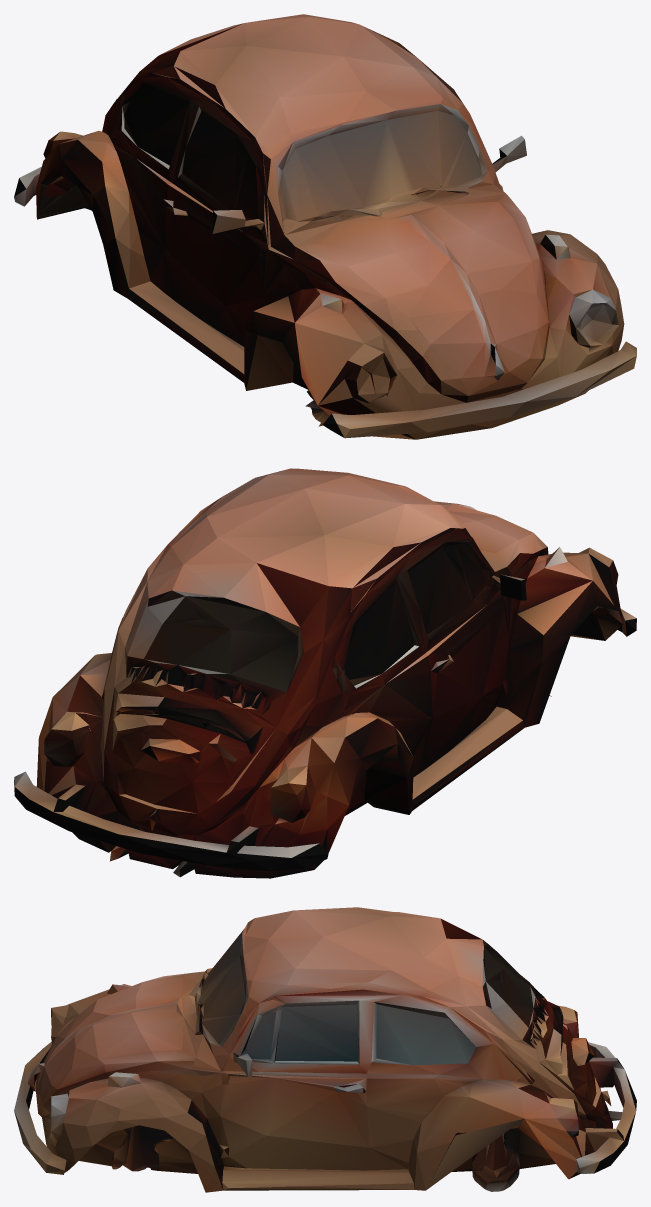
The model's file is vw_beetle_1967.glb.
3 views of the same model, one above another, from view 1: azimuth 30°, elevation 25°; view 2: azimuth 150°, elevation 25°; view 3: azimuth 270°, elevation 25° (orthographic). The views are drawn at different scales.
Parts seen in each view (by area): view 1: Wreck_vw_beetle_1967; view 2: Wreck_vw_beetle_1967; view 3: Wreck_vw_beetle_1967.
Boxes of the visible parts, left/top/right/bottom form: Wreck_vw_beetle_1967: left=14, top=14, right=636, bottom=439; Wreck_vw_beetle_1967: left=14, top=468, right=636, bottom=878; Wreck_vw_beetle_1967: left=14, top=907, right=636, bottom=1192.
Bounding box in the file's own units: 2.01 × 1.56 × 4.09.
